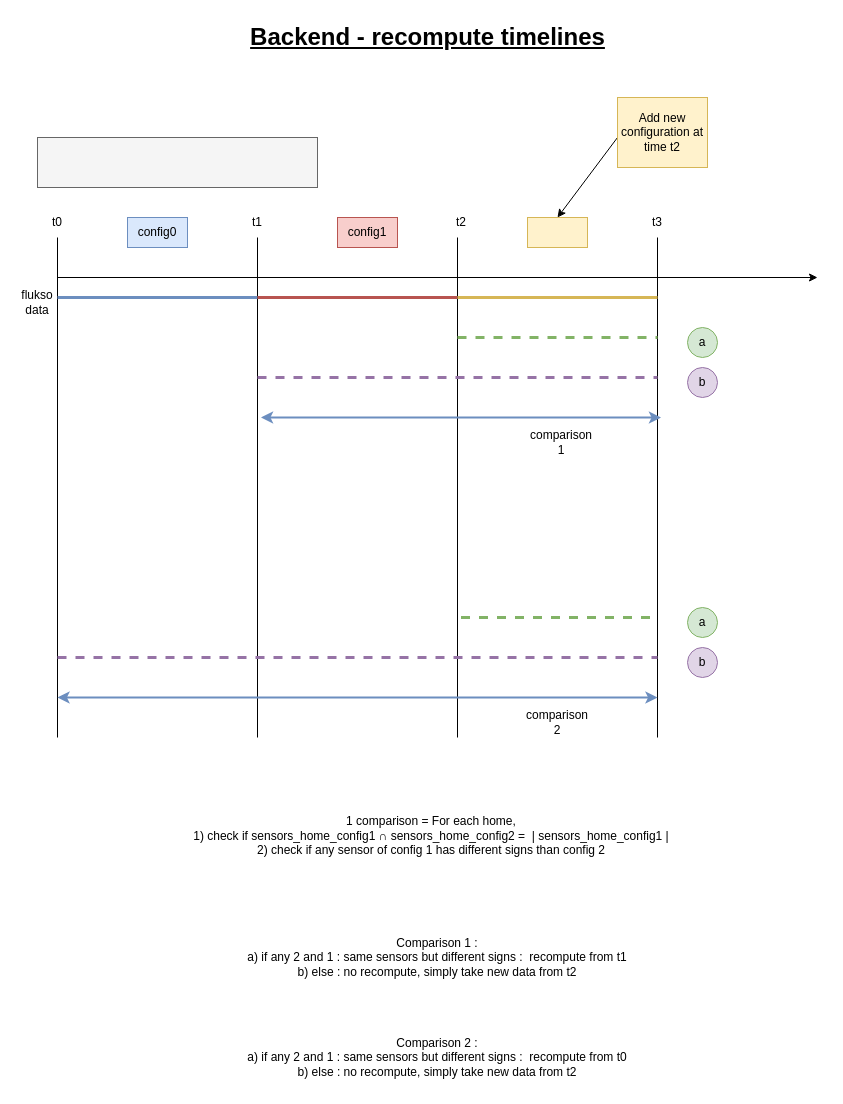
Some shapes in this 843 by 1104 pixel diagram are drawn without their labels. The shapes that lost their labels are listed below. From the top down, each one's centre as x and y in pixels, then its label:
At [177,162]: "Home X".
At [557,232]: "config2".
